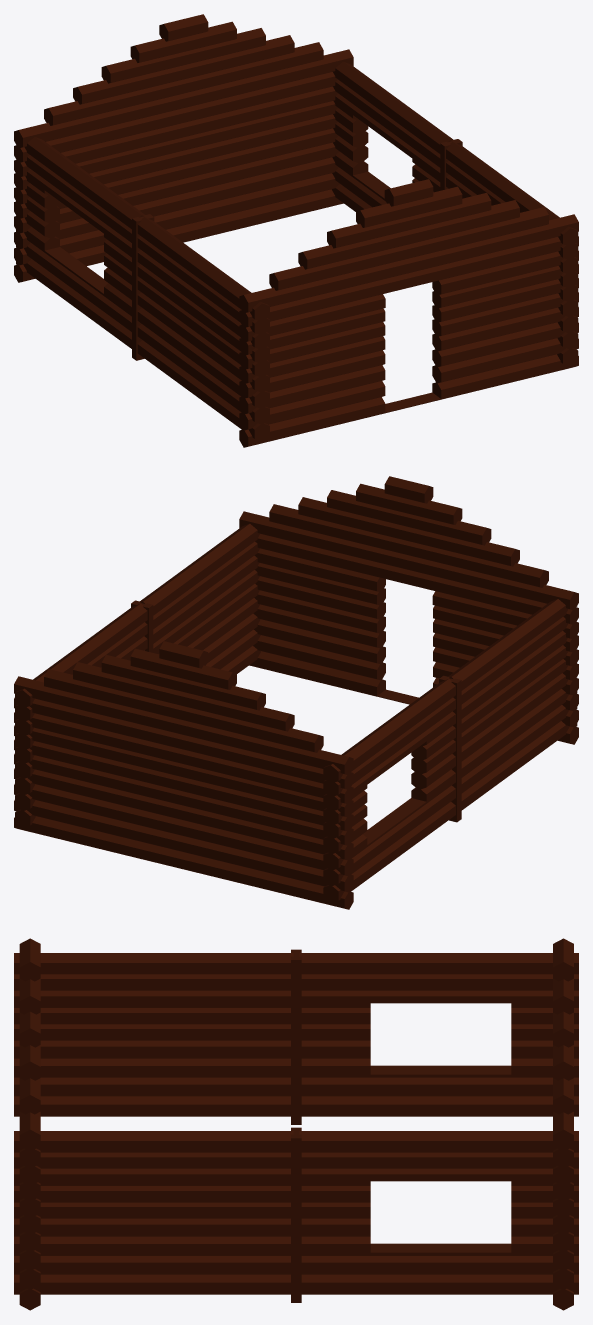
The model's file is Walls.fbx.
The picture shows the model from 3 angles, top to bottom: view 1: azimuth 30°, elevation 25°; view 2: azimuth 150°, elevation 25°; view 3: azimuth 270°, elevation 25°; orthographic projection. The views are drawn at different scales.
Visible parts, largest first — view 1: Walls; view 2: Walls; view 3: Walls.
Boxes of the visible parts, box(x1,y1,x2,y2) form: Walls: box(14, 14, 578, 447); Walls: box(14, 476, 578, 909); Walls: box(14, 938, 578, 1310).
Size of the model in its own units: 3.25 by 2.1 by 4.06.
